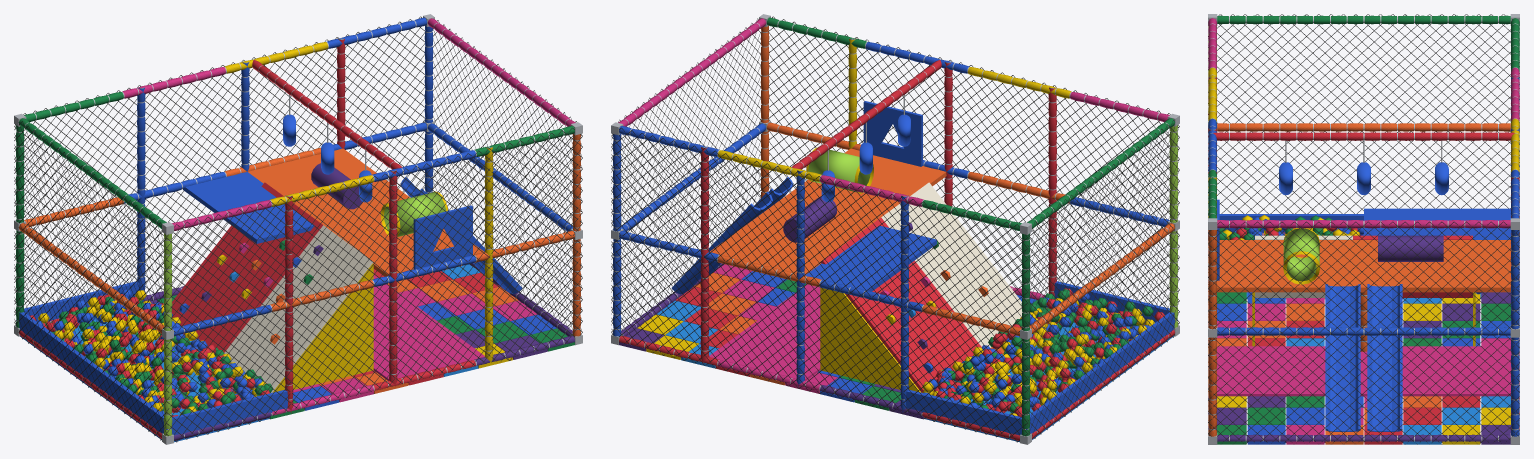
The model's file is web.glb.
3 renders of one model, left to right at view 1: azimuth 30°, elevation 25°; view 2: azimuth 150°, elevation 25°; view 3: azimuth 270°, elevation 25°, orthographic. The views are drawn at different scales.
Visible parts, largest first — view 1: rede, plataforma, vinil_tubo, bolinhas, tatame, metal, escorregador_plastico; view 2: rede, plataforma, vinil_tubo, bolinhas, tatame, metal, escorregador_plastico; view 3: plataforma, rede, vinil_tubo, tatame, escorregador_plastico, metal, bolinhas.
Boxes of the visible parts, x1=… form: rede: x1=14, y1=16, x2=582, y2=442; plataforma: x1=16, y1=114, x2=484, y2=442; vinil_tubo: x1=16, y1=17, x2=580, y2=440; bolinhas: x1=29, y1=289, x2=272, y2=416; tatame: x1=130, y1=264, x2=574, y2=418; metal: x1=14, y1=14, x2=582, y2=444; escorregador_plastico: x1=179, y1=177, x2=522, y2=344; rede: x1=611, y1=16, x2=1179, y2=442; plataforma: x1=709, y1=101, x2=1177, y2=442; vinil_tubo: x1=613, y1=17, x2=1177, y2=440; bolinhas: x1=922, y1=288, x2=1164, y2=416; tatame: x1=619, y1=264, x2=1051, y2=418; metal: x1=611, y1=14, x2=1179, y2=444; escorregador_plastico: x1=671, y1=177, x2=988, y2=373; plataforma: x1=1216, y1=162, x2=1511, y2=396; rede: x1=1208, y1=14, x2=1519, y2=444; vinil_tubo: x1=1208, y1=15, x2=1519, y2=442; tatame: x1=1217, y1=292, x2=1510, y2=444; escorregador_plastico: x1=1325, y1=284, x2=1402, y2=431; metal: x1=1208, y1=14, x2=1519, y2=444; bolinhas: x1=1219, y1=214, x2=1481, y2=294.
Bounding box in the file's own units: 6 × 3 × 3.8.
Materials: 7 (7 with a texture image).
